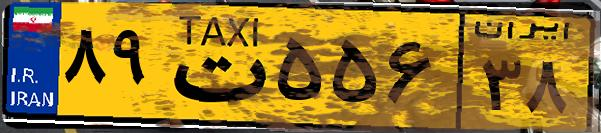3: (475, 38, 525, 113)
5: (270, 28, 330, 110), (330, 28, 385, 110)
6: (385, 28, 445, 110)
8: (57, 26, 110, 100), (525, 38, 570, 115)
9: (110, 28, 158, 98)
ت: (158, 12, 270, 120)
